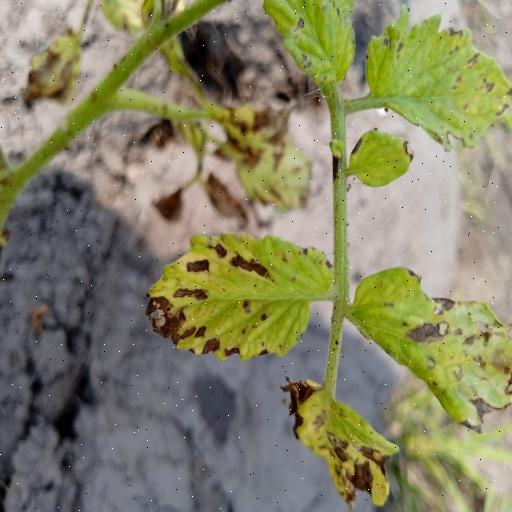Tomato_Brown_Spots: (346, 266, 512, 427), (144, 225, 340, 360), (360, 6, 512, 150)
